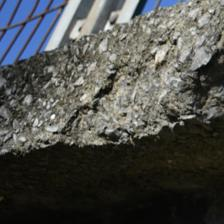Crack: (30, 25, 168, 133)
